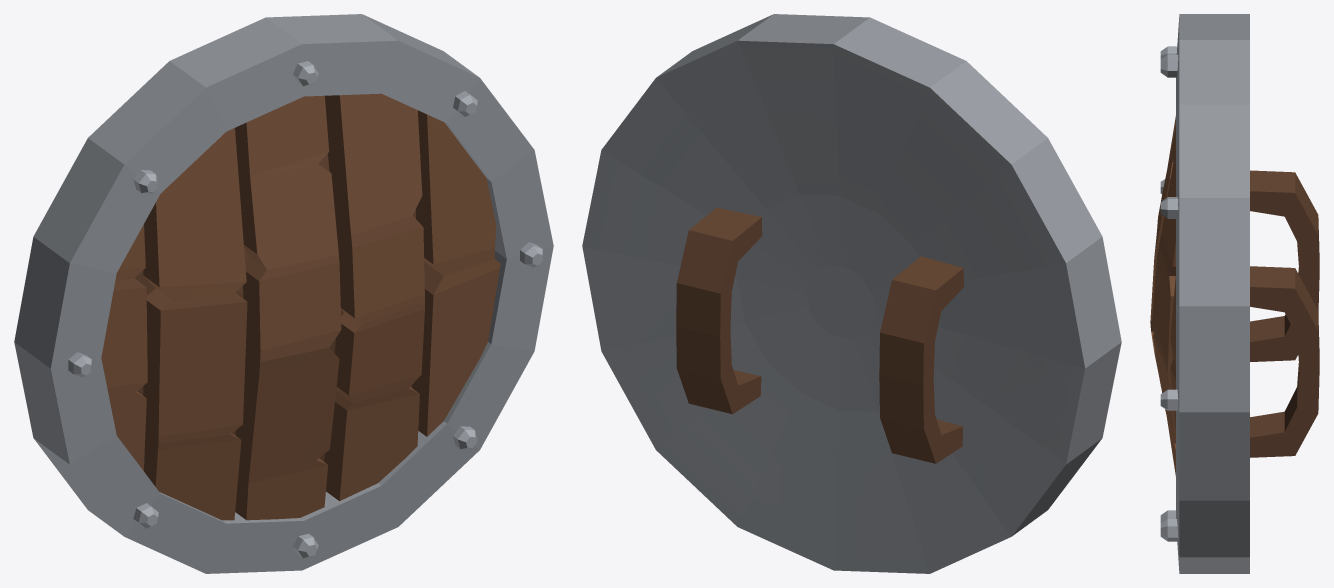
Rendered from paladin-shield-0.glb.
The picture shows the model from 3 angles, left to right: view 1: azimuth 30°, elevation 25°; view 2: azimuth 150°, elevation 25°; view 3: azimuth 270°, elevation 25°; orthographic projection. The views are drawn at different scales.
Visible parts, largest first — view 1: Shield_Round_Cylinder.015; view 2: Shield_Round_Cylinder.015; view 3: Shield_Round_Cylinder.015.
Part boxes in pixels (x1,y1,x2,y2): Shield_Round_Cylinder.015: [14, 14, 553, 573]; Shield_Round_Cylinder.015: [582, 14, 1121, 573]; Shield_Round_Cylinder.015: [1150, 14, 1319, 573].
Bounding box in the file's own units: 2 × 2 × 0.6037.
